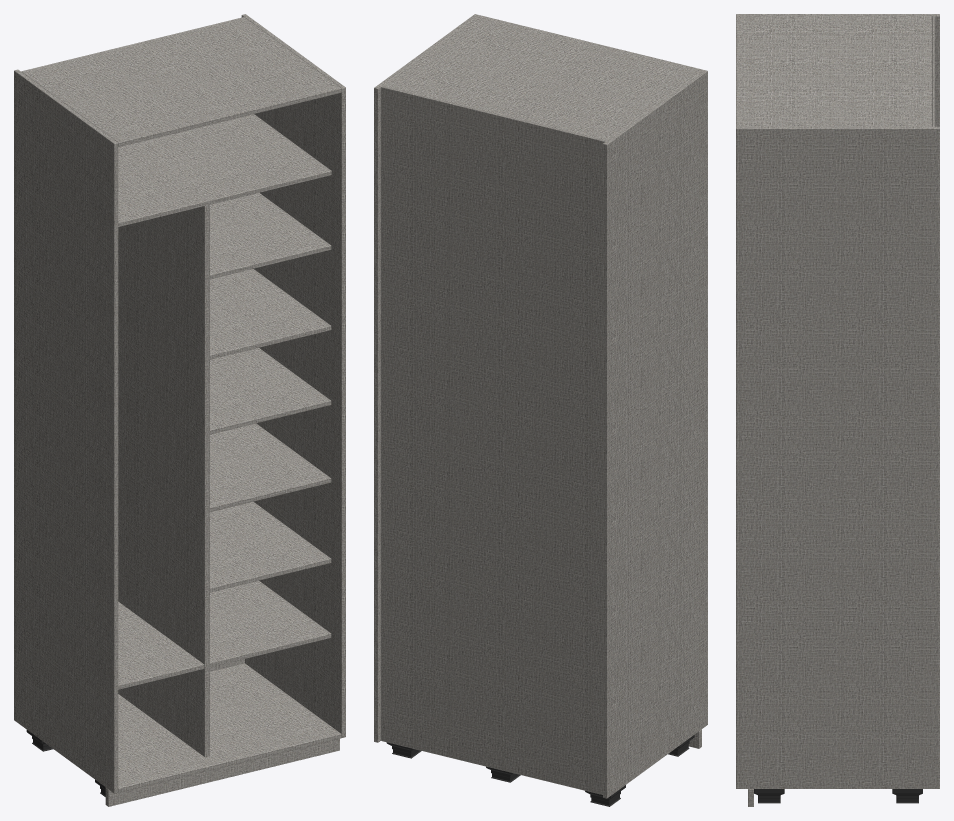
Rendered from cbib12155.gltf.
The picture shows the model from 3 angles, left to right: view 1: azimuth 30°, elevation 25°; view 2: azimuth 150°, elevation 25°; view 3: azimuth 270°, elevation 25°; orthographic projection.
Visible parts, largest first — view 1: CBIB12155; view 2: CBIB12155; view 3: CBIB12155.
Part boxes in pixels (box(x1,y1,x2,y2)): CBIB12155: box(14, 14, 345, 806); CBIB12155: box(374, 14, 707, 806); CBIB12155: box(736, 14, 939, 806).
Bounding box in the file's own units: 0.8 × 2.2 × 0.6.
Materials: 3 (2 with a texture image).
